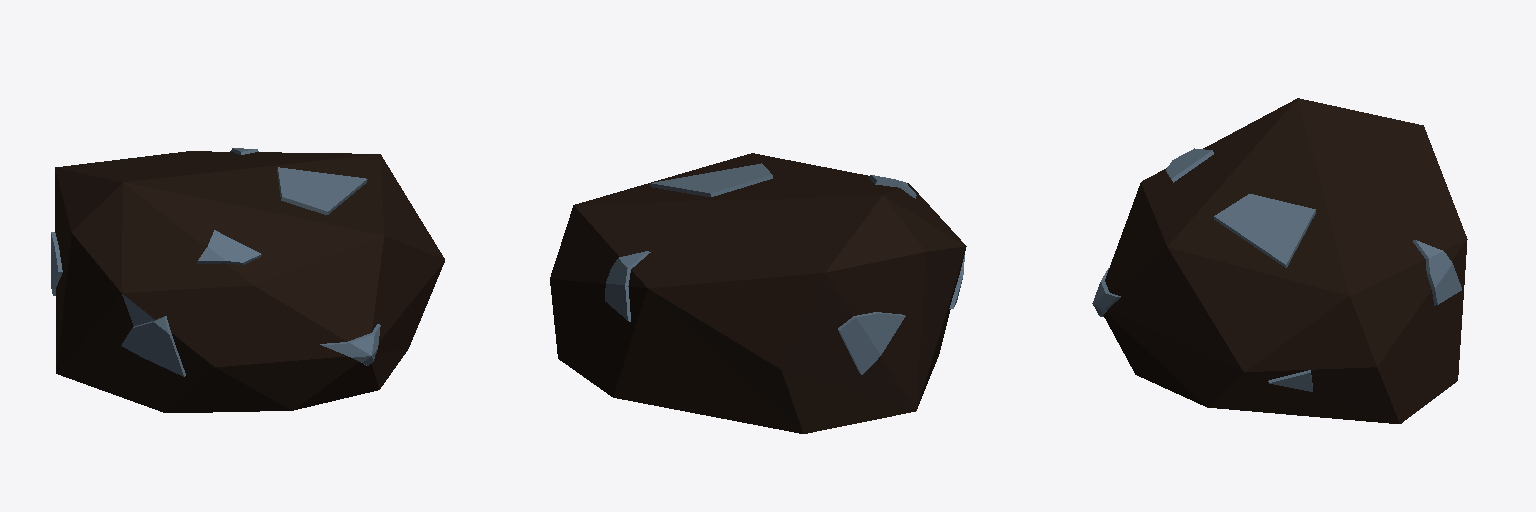
Rendered from SilverOre.obj.
The picture shows the model from 3 angles: view 1: azimuth 30°, elevation 25°; view 2: azimuth 150°, elevation 25°; view 3: azimuth 270°, elevation 25°; orthographic projection.
Visible parts, largest first — view 1: SilverOre; view 2: SilverOre; view 3: SilverOre.
Part boxes in pixels (bbox=[...]): SilverOre: bbox=[51, 148, 444, 412]; SilverOre: bbox=[550, 153, 966, 433]; SilverOre: bbox=[1092, 98, 1467, 423].
Size of the model in its own units: 0.3924 by 0.2098 by 0.3662.